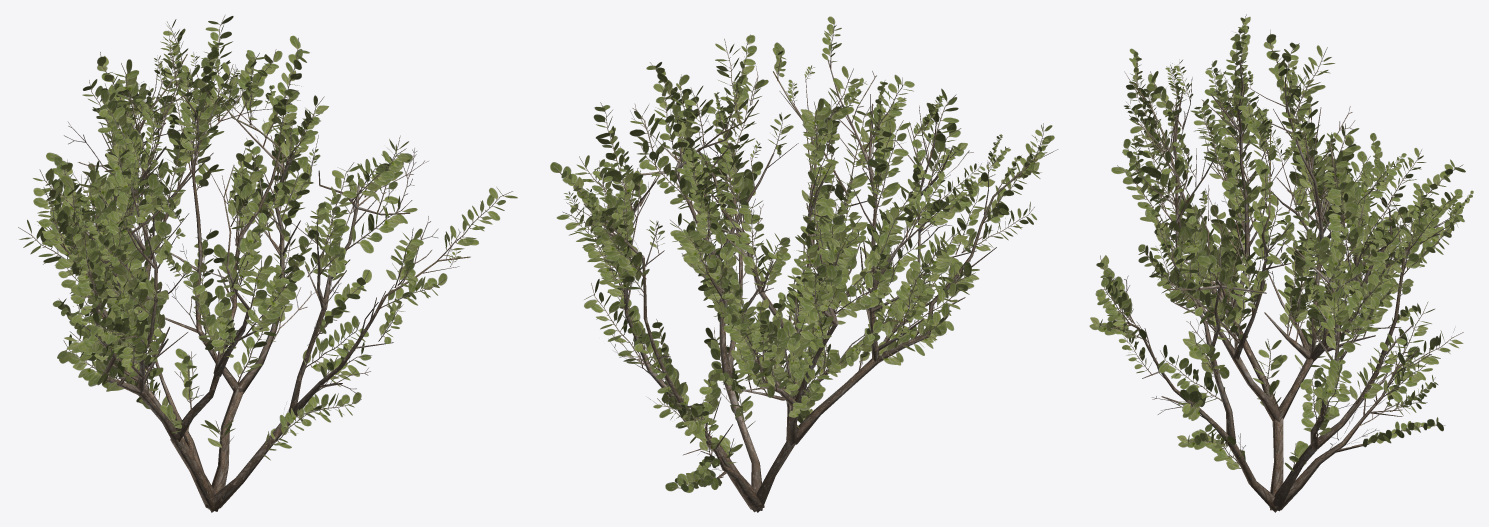
Rendered from searsia_lucida_c_LOD1.glb.
The picture shows the model from 3 angles, left to right: view 1: azimuth 30°, elevation 25°; view 2: azimuth 150°, elevation 25°; view 3: azimuth 270°, elevation 25°; orthographic projection. The views are drawn at different scales.
Parts seen in each view (by area): view 1: searsia_lucida_c_LOD1.001; view 2: searsia_lucida_c_LOD1.001; view 3: searsia_lucida_c_LOD1.001.
Boxes of the visible parts, x1=… form: searsia_lucida_c_LOD1.001: x1=18, y1=14, x2=517, y2=512; searsia_lucida_c_LOD1.001: x1=550, y1=16, x2=1058, y2=512; searsia_lucida_c_LOD1.001: x1=1089, y1=14, x2=1473, y2=512.
Bounding box in the file's own units: 1.52 × 1.68 × 1.25.
3 materials, 3 textured.
